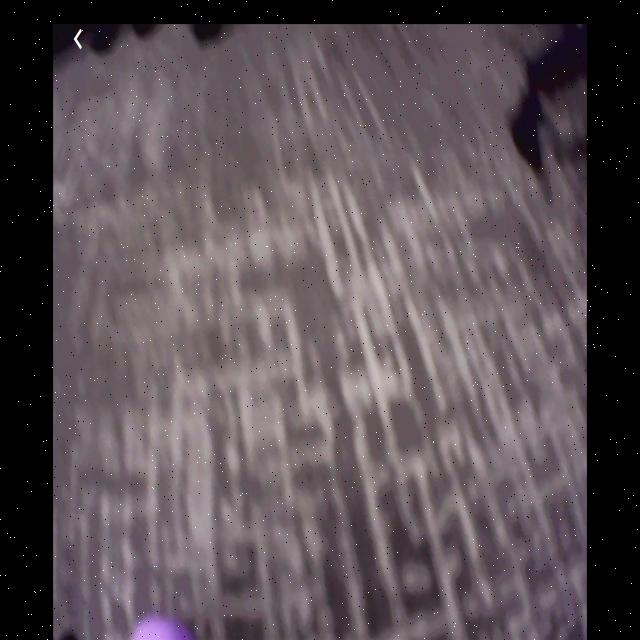ball: (127, 618, 198, 640)
